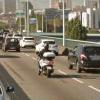Motorcycle: (29, 38, 59, 83)
